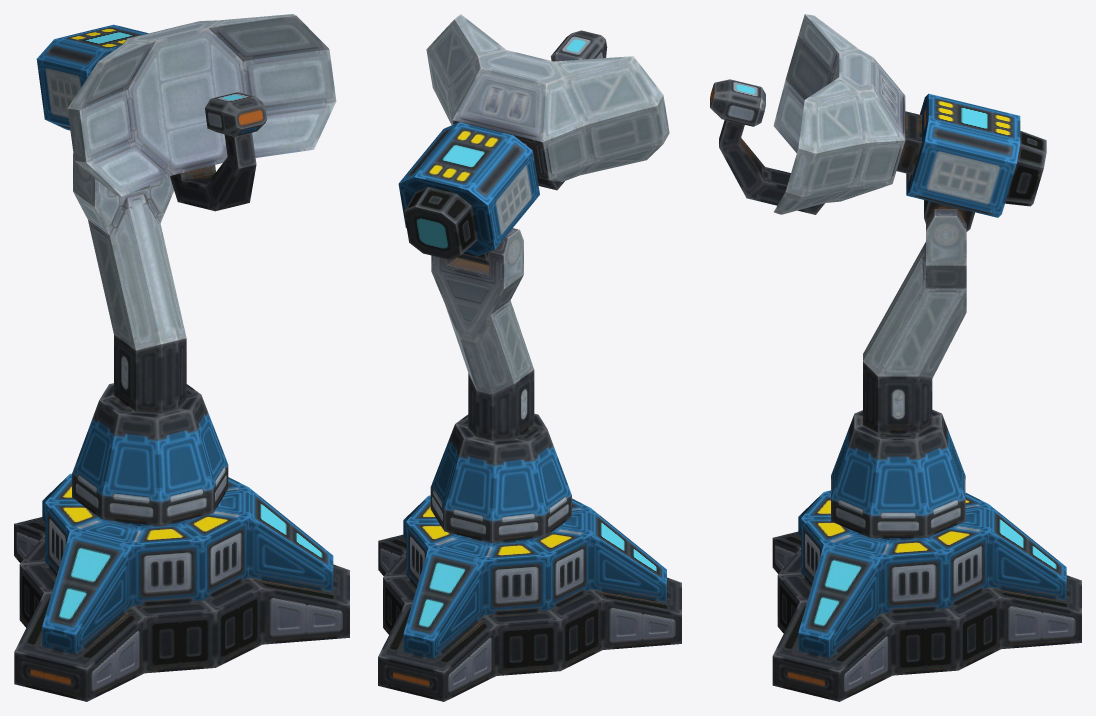
3 views of the same model, side by side, from view 1: azimuth 30°, elevation 25°; view 2: azimuth 150°, elevation 25°; view 3: azimuth 270°, elevation 25° (orthographic). The views are drawn at different scales.
Parts seen in each view (by area): view 1: 09081c3e-8f81-4723-a6db-1a8646cad031, 6fe89412-c47f-4a9c-9954-01d425e4c181, c5fc796d-8e79-4312-8779-46cfab3ca09c; view 2: 09081c3e-8f81-4723-a6db-1a8646cad031, 6fe89412-c47f-4a9c-9954-01d425e4c181, c5fc796d-8e79-4312-8779-46cfab3ca09c; view 3: 09081c3e-8f81-4723-a6db-1a8646cad031, 6fe89412-c47f-4a9c-9954-01d425e4c181, c5fc796d-8e79-4312-8779-46cfab3ca09c.
Boxes of the visible parts, <box> form: 09081c3e-8f81-4723-a6db-1a8646cad031: <box>14,473,349,701</box>; 6fe89412-c47f-4a9c-9954-01d425e4c181: <box>36,14,336,211</box>; c5fc796d-8e79-4312-8779-46cfab3ca09c: <box>72,153,228,526</box>; 09081c3e-8f81-4723-a6db-1a8646cad031: <box>378,495,681,701</box>; 6fe89412-c47f-4a9c-9954-01d425e4c181: <box>398,14,669,265</box>; c5fc796d-8e79-4312-8779-46cfab3ca09c: <box>430,228,571,542</box>; 09081c3e-8f81-4723-a6db-1a8646cad031: <box>772,490,1081,701</box>; 6fe89412-c47f-4a9c-9954-01d425e4c181: <box>710,14,1046,231</box>; c5fc796d-8e79-4312-8779-46cfab3ca09c: <box>831,209,966,537</box>.
Size of the model in its own units: 56.29 by 99.05 by 58.61.
Materials: 1 (1 with a texture image).
